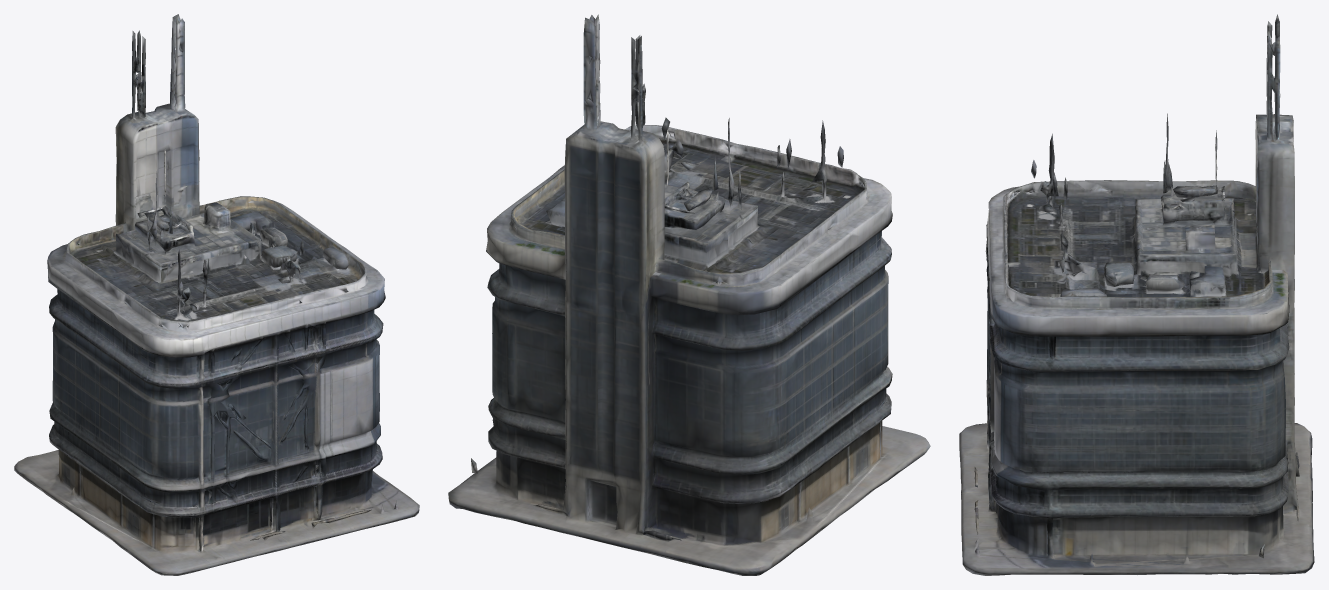
The model's file is Crea_una_malla_3D_de__0601013044_texture.fbx.
3 views of the same model, side by side, from view 1: azimuth 30°, elevation 25°; view 2: azimuth 150°, elevation 25°; view 3: azimuth 270°, elevation 25° (orthographic). The views are drawn at different scales.
Parts seen in each view (by area): view 1: Mesh1; view 2: Mesh1; view 3: Mesh1.
Boxes of the visible parts, x1,y1,x2,y2 form: Mesh1: (14,14,419,575); Mesh1: (448,14,930,575); Mesh1: (959,14,1314,575).
Bounding box in the file's own units: 134 × 205 × 136.
1 material, 1 textured.
